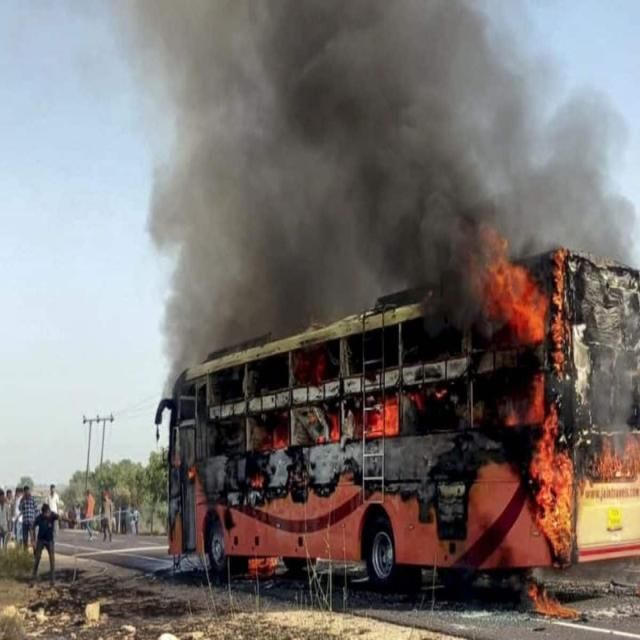fire: (461, 224, 548, 345), (531, 406, 575, 566), (552, 247, 575, 381), (592, 433, 640, 481), (354, 396, 400, 439), (530, 581, 582, 619), (293, 350, 325, 388)
